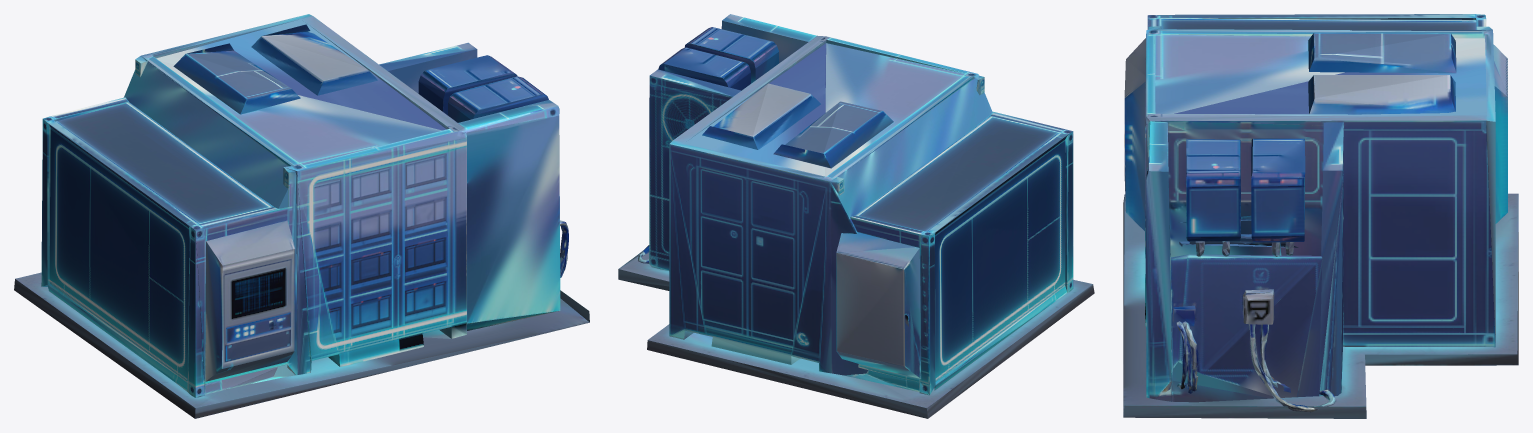
Rendered from battery.glb.
The picture shows the model from 3 angles, left to right: view 1: azimuth 30°, elevation 25°; view 2: azimuth 150°, elevation 25°; view 3: azimuth 270°, elevation 25°; orthographic projection. The views are drawn at different scales.
Parts seen in each view (by area): view 1: world; view 2: world; view 3: world.
Boxes of the visible parts, left/top/right/bottom form: world: left=14, top=14, right=589, bottom=418; world: left=618, top=14, right=1094, bottom=418; world: left=1123, top=14, right=1518, bottom=418.
Size of the model in its own units: 1.49 by 0.7891 by 1.14.
1 material, 1 textured.
